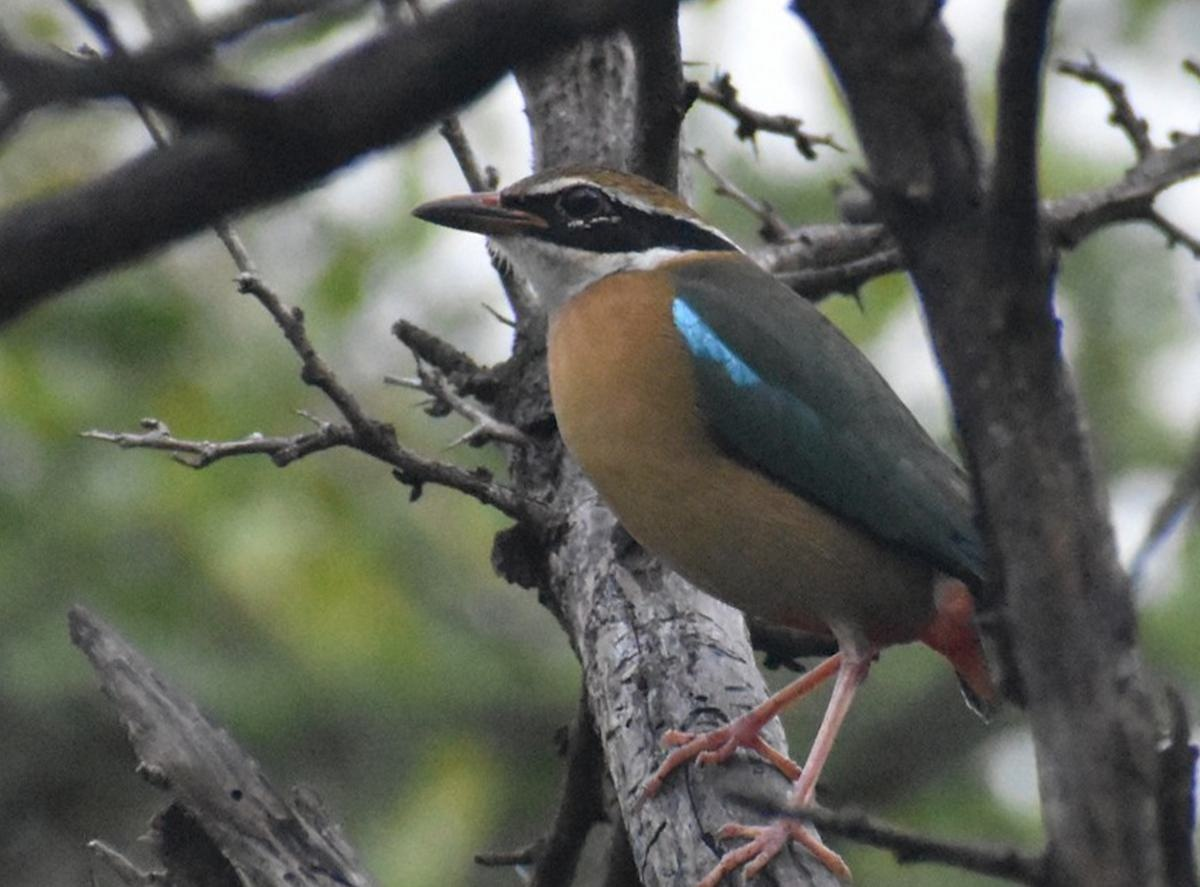pitta: (407, 161, 1073, 789)
